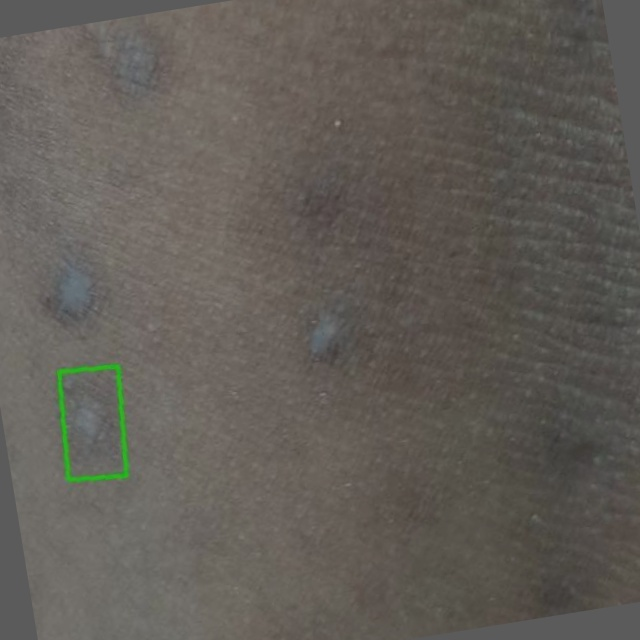Scabies: (58, 366, 126, 481)
